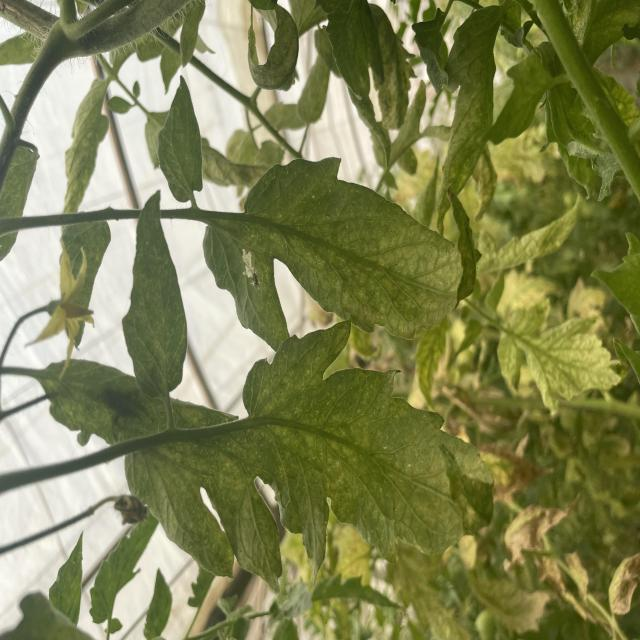Tuta absoluta: (240, 247, 260, 288)
